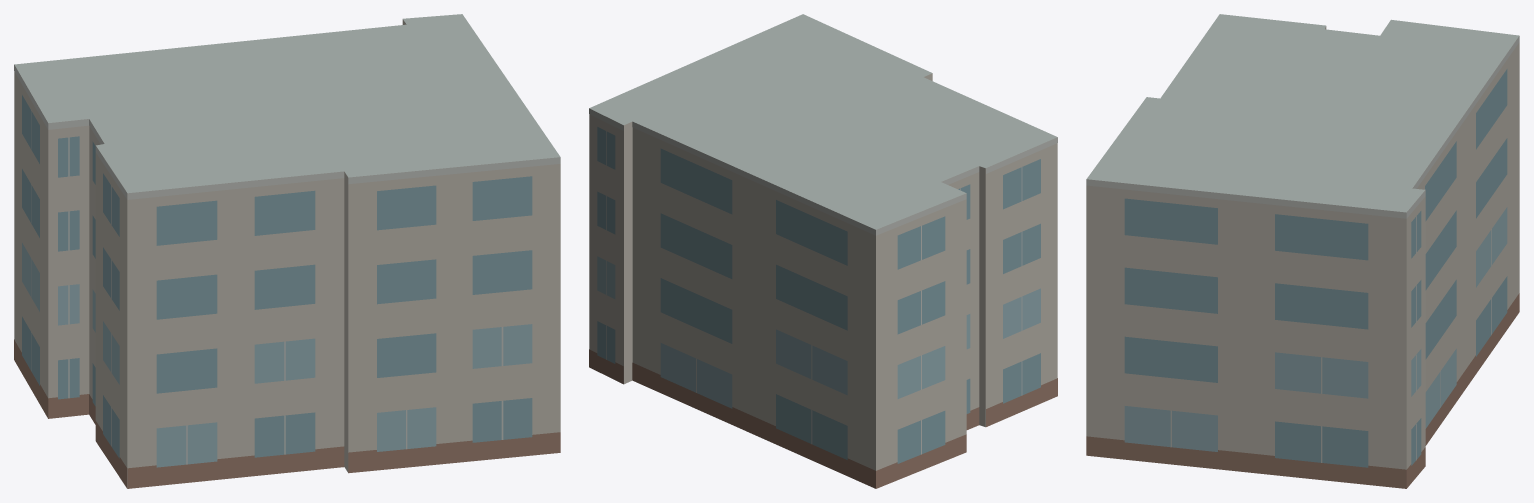
The model's file is survey-upis-33023778.glb.
3 views of the same model, side by side, from view 1: azimuth 30°, elevation 25°; view 2: azimuth 150°, elevation 25°; view 3: azimuth 270°, elevation 25° (orthographic). The views are drawn at different scales.
Visible parts, largest first — view 1: survey-upis-33023778.tmp; view 2: survey-upis-33023778.tmp; view 3: survey-upis-33023778.tmp.
Part boxes in pixels (x1,y1,x2,y2): survey-upis-33023778.tmp: [14, 14, 560, 488]; survey-upis-33023778.tmp: [589, 14, 1057, 488]; survey-upis-33023778.tmp: [1086, 14, 1519, 488].
Size of the model in its own units: 16.56 by 10.75 by 15.28.
